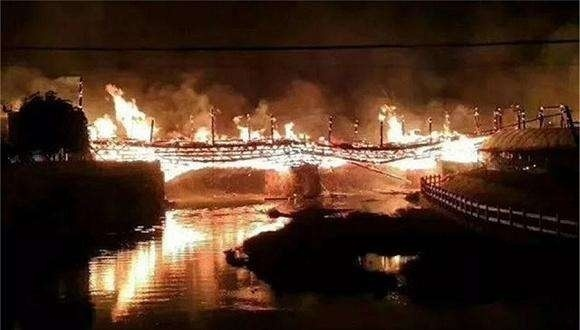fire: (57, 87, 502, 183)
